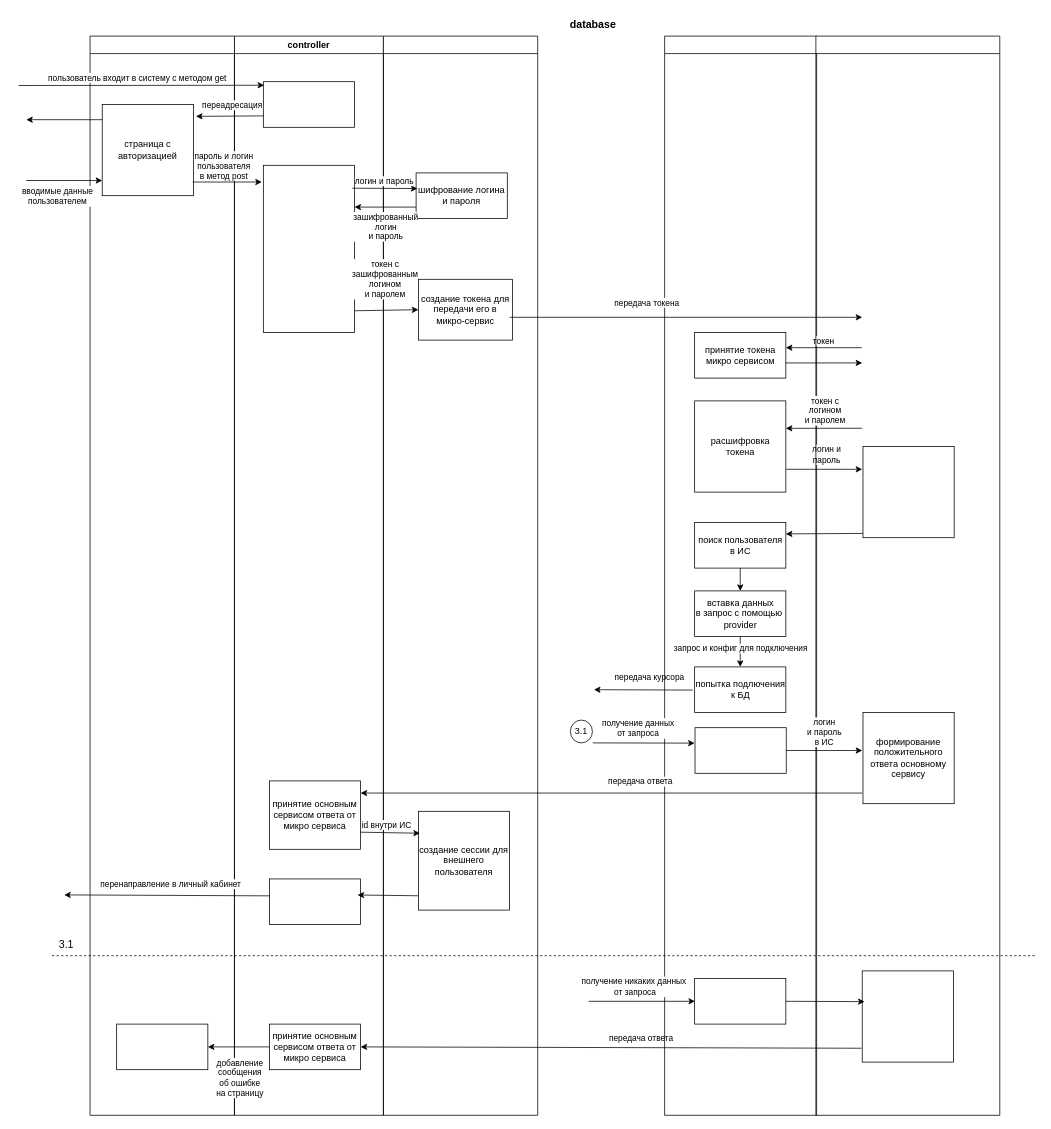
This 1051x1129 diagram has some shape labels left out. The box of each missing label's shape, as (x1, y1, x2, y2) in pixels:
external_controller: (815, 35, 1000, 1115)
external_model: (664, 35, 817, 1115)
model: (383, 35, 538, 1115)
viewer: (89, 35, 234, 1115)
сохранение логина и пароля в переменную: (862, 446, 954, 538)
страница с авторизацией с сообщением об ошибке: (116, 1023, 208, 1070)
формирование отрицательного ответа основному сервису: (861, 970, 953, 1062)
